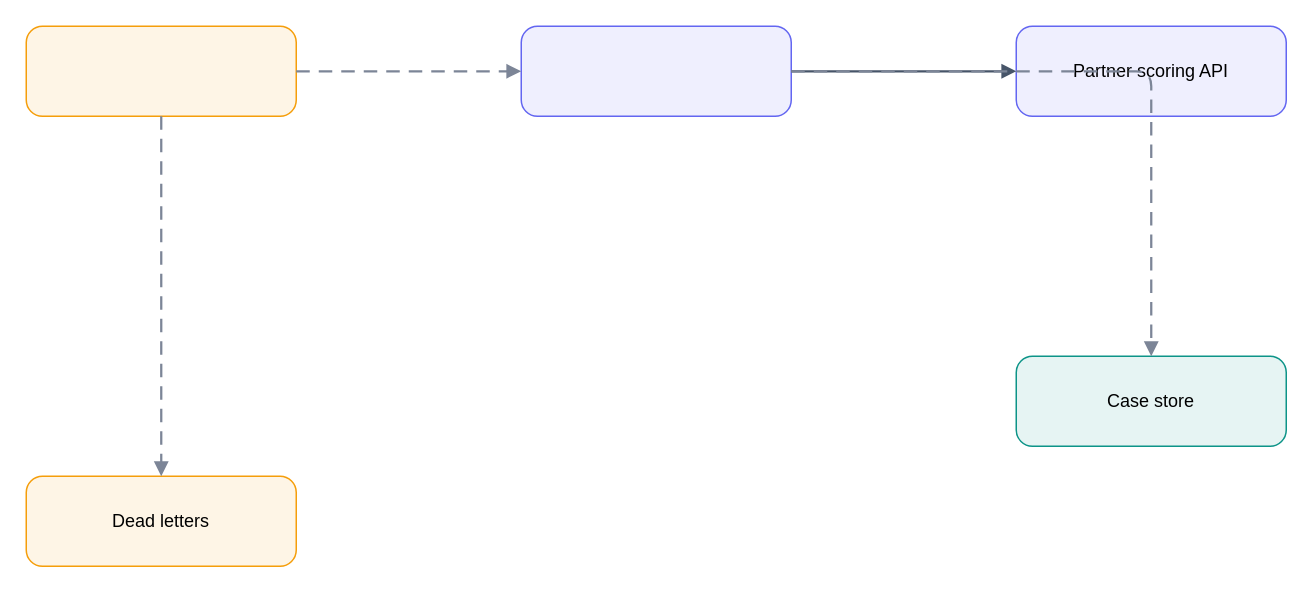
Some shapes in this 1313 by 593 pixel diagram are drawn without their labels. Each missing label, with the centre of its shape:
Applications: the point at 160,70
Decision service: the point at 655,70
